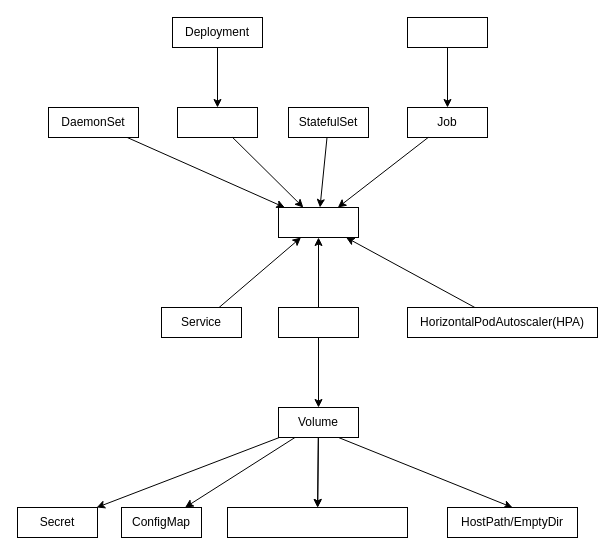
Image size: 615x555. Some labels were removed from this diagram. The shapes that lost their labels are listed below. From the top down, each one's centre as x and y in pixels, then its label:
the point at 447,32: CronJob
the point at 217,122: ReplicaSet
the point at 318,222: Pod
the point at 318,322: Container
the point at 317,522: PersistentVolumeClaim(PVC)
